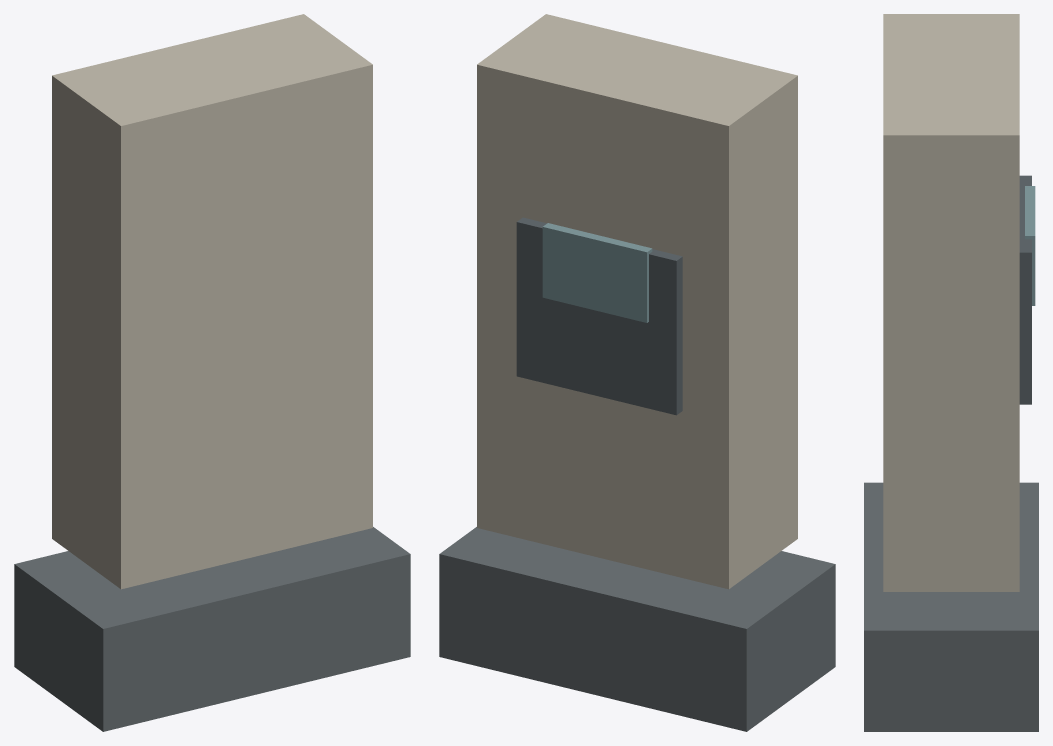
Rendered from iz3_health_cabinet_01.glb.
The picture shows the model from 3 angles, left to right: view 1: azimuth 30°, elevation 25°; view 2: azimuth 150°, elevation 25°; view 3: azimuth 270°, elevation 25°; orthographic projection.
Visible parts, largest first — view 1: cabinet, base; view 2: cabinet, base, panel, display; view 3: cabinet, base, panel, display.
Boxes of the visible parts, box(x1,y1,x2,y2) form: cabinet: box(52, 14, 372, 589); base: box(14, 527, 410, 731); cabinet: box(477, 14, 797, 589); base: box(439, 527, 835, 731); panel: box(516, 217, 682, 415); display: box(542, 223, 652, 322); cabinet: box(883, 14, 1019, 591); base: box(864, 482, 1038, 731); panel: box(1019, 175, 1031, 404); display: box(1025, 186, 1035, 305).
Size of the model in its own units: 1 by 1.84 by 0.5.
